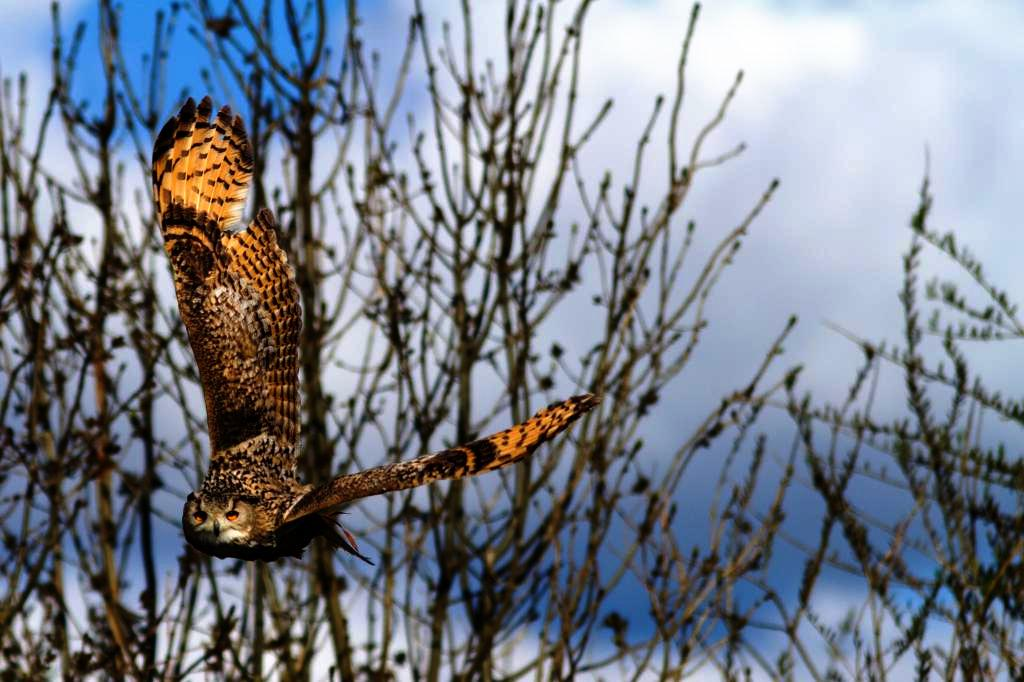Owl: (152, 93, 598, 566)
